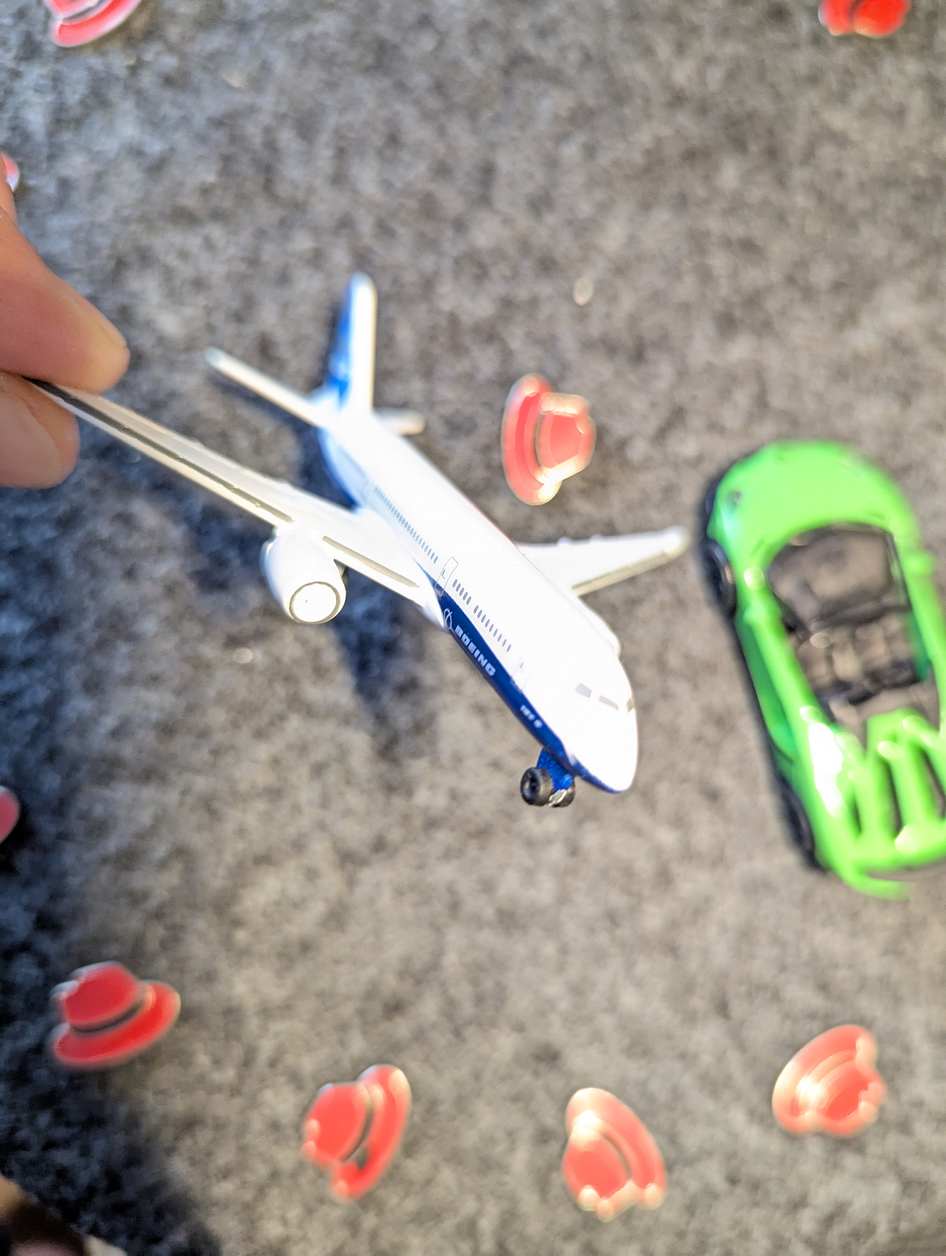Airplane: (3, 161, 711, 839)
Car: (668, 403, 946, 920)
Red-Hat: (30, 920, 198, 1091), (558, 1067, 717, 1232), (289, 1039, 432, 1215), (768, 1001, 921, 1163), (494, 364, 632, 533), (18, 0, 163, 63), (799, 0, 946, 47)
Scratch: (339, 1124, 376, 1177)
